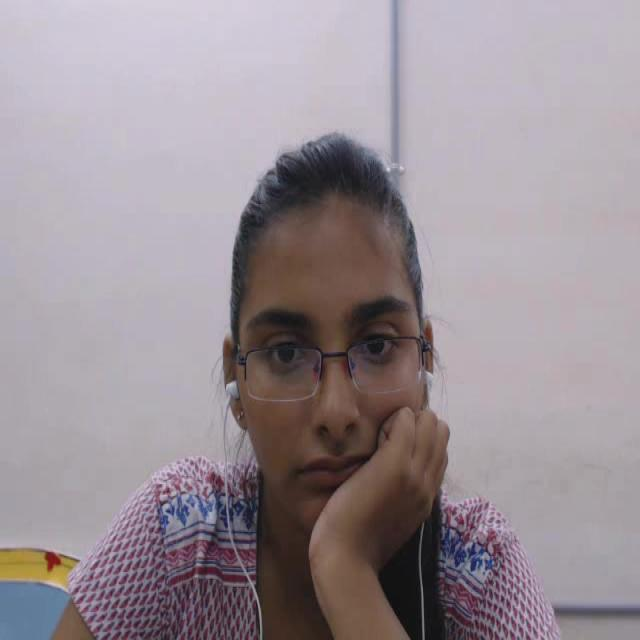Bored: (208, 132, 448, 538)
